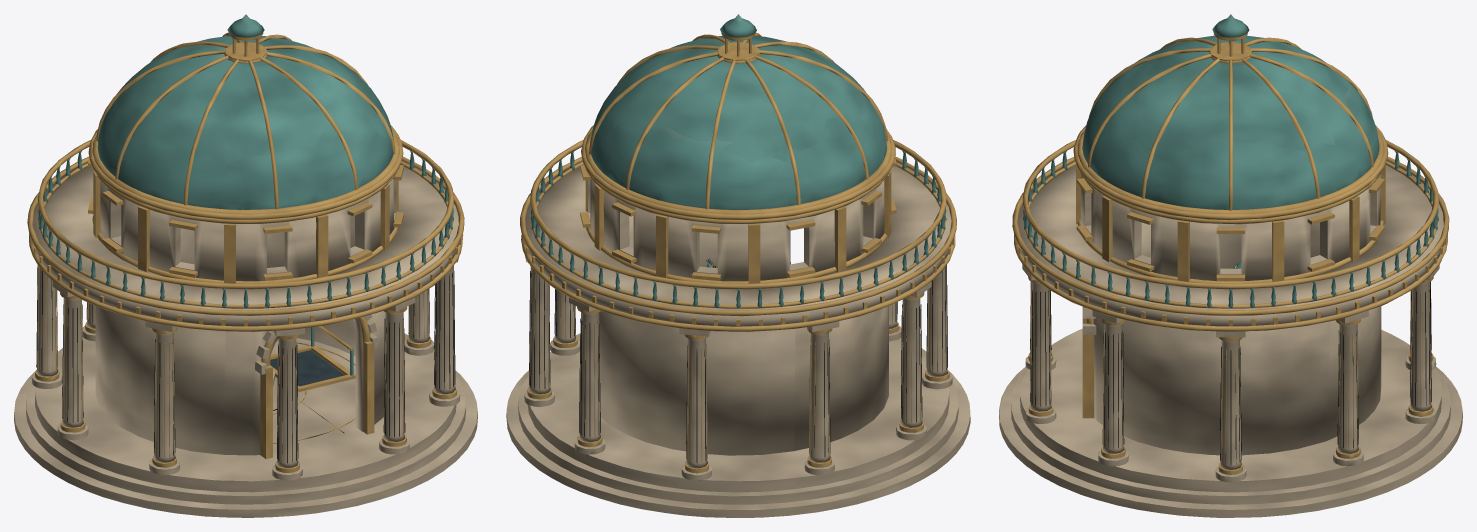
The model's file is lynx-temple-far.glb.
The picture shows the model from 3 angles, left to right: view 1: azimuth 30°, elevation 25°; view 2: azimuth 150°, elevation 25°; view 3: azimuth 270°, elevation 25°; orthographic projection.
Parts seen in each view (by area): view 1: TempleVisual.002; view 2: TempleVisual.002; view 3: TempleVisual.002.
Boxes of the visible parts, <box> form: TempleVisual.002: <box>14,14,477,517</box>; TempleVisual.002: <box>506,14,970,517</box>; TempleVisual.002: <box>999,14,1462,517</box>.
Bounding box in the file's own units: 10.79 × 11.59 × 10.79.
Materials: 6 (6 with a texture image).
